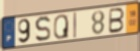8: (90, 9, 106, 37)
9: (18, 18, 31, 45)
B: (108, 7, 126, 35)
I: (73, 11, 78, 39)
Q: (53, 14, 70, 41)
S: (34, 15, 52, 43)
